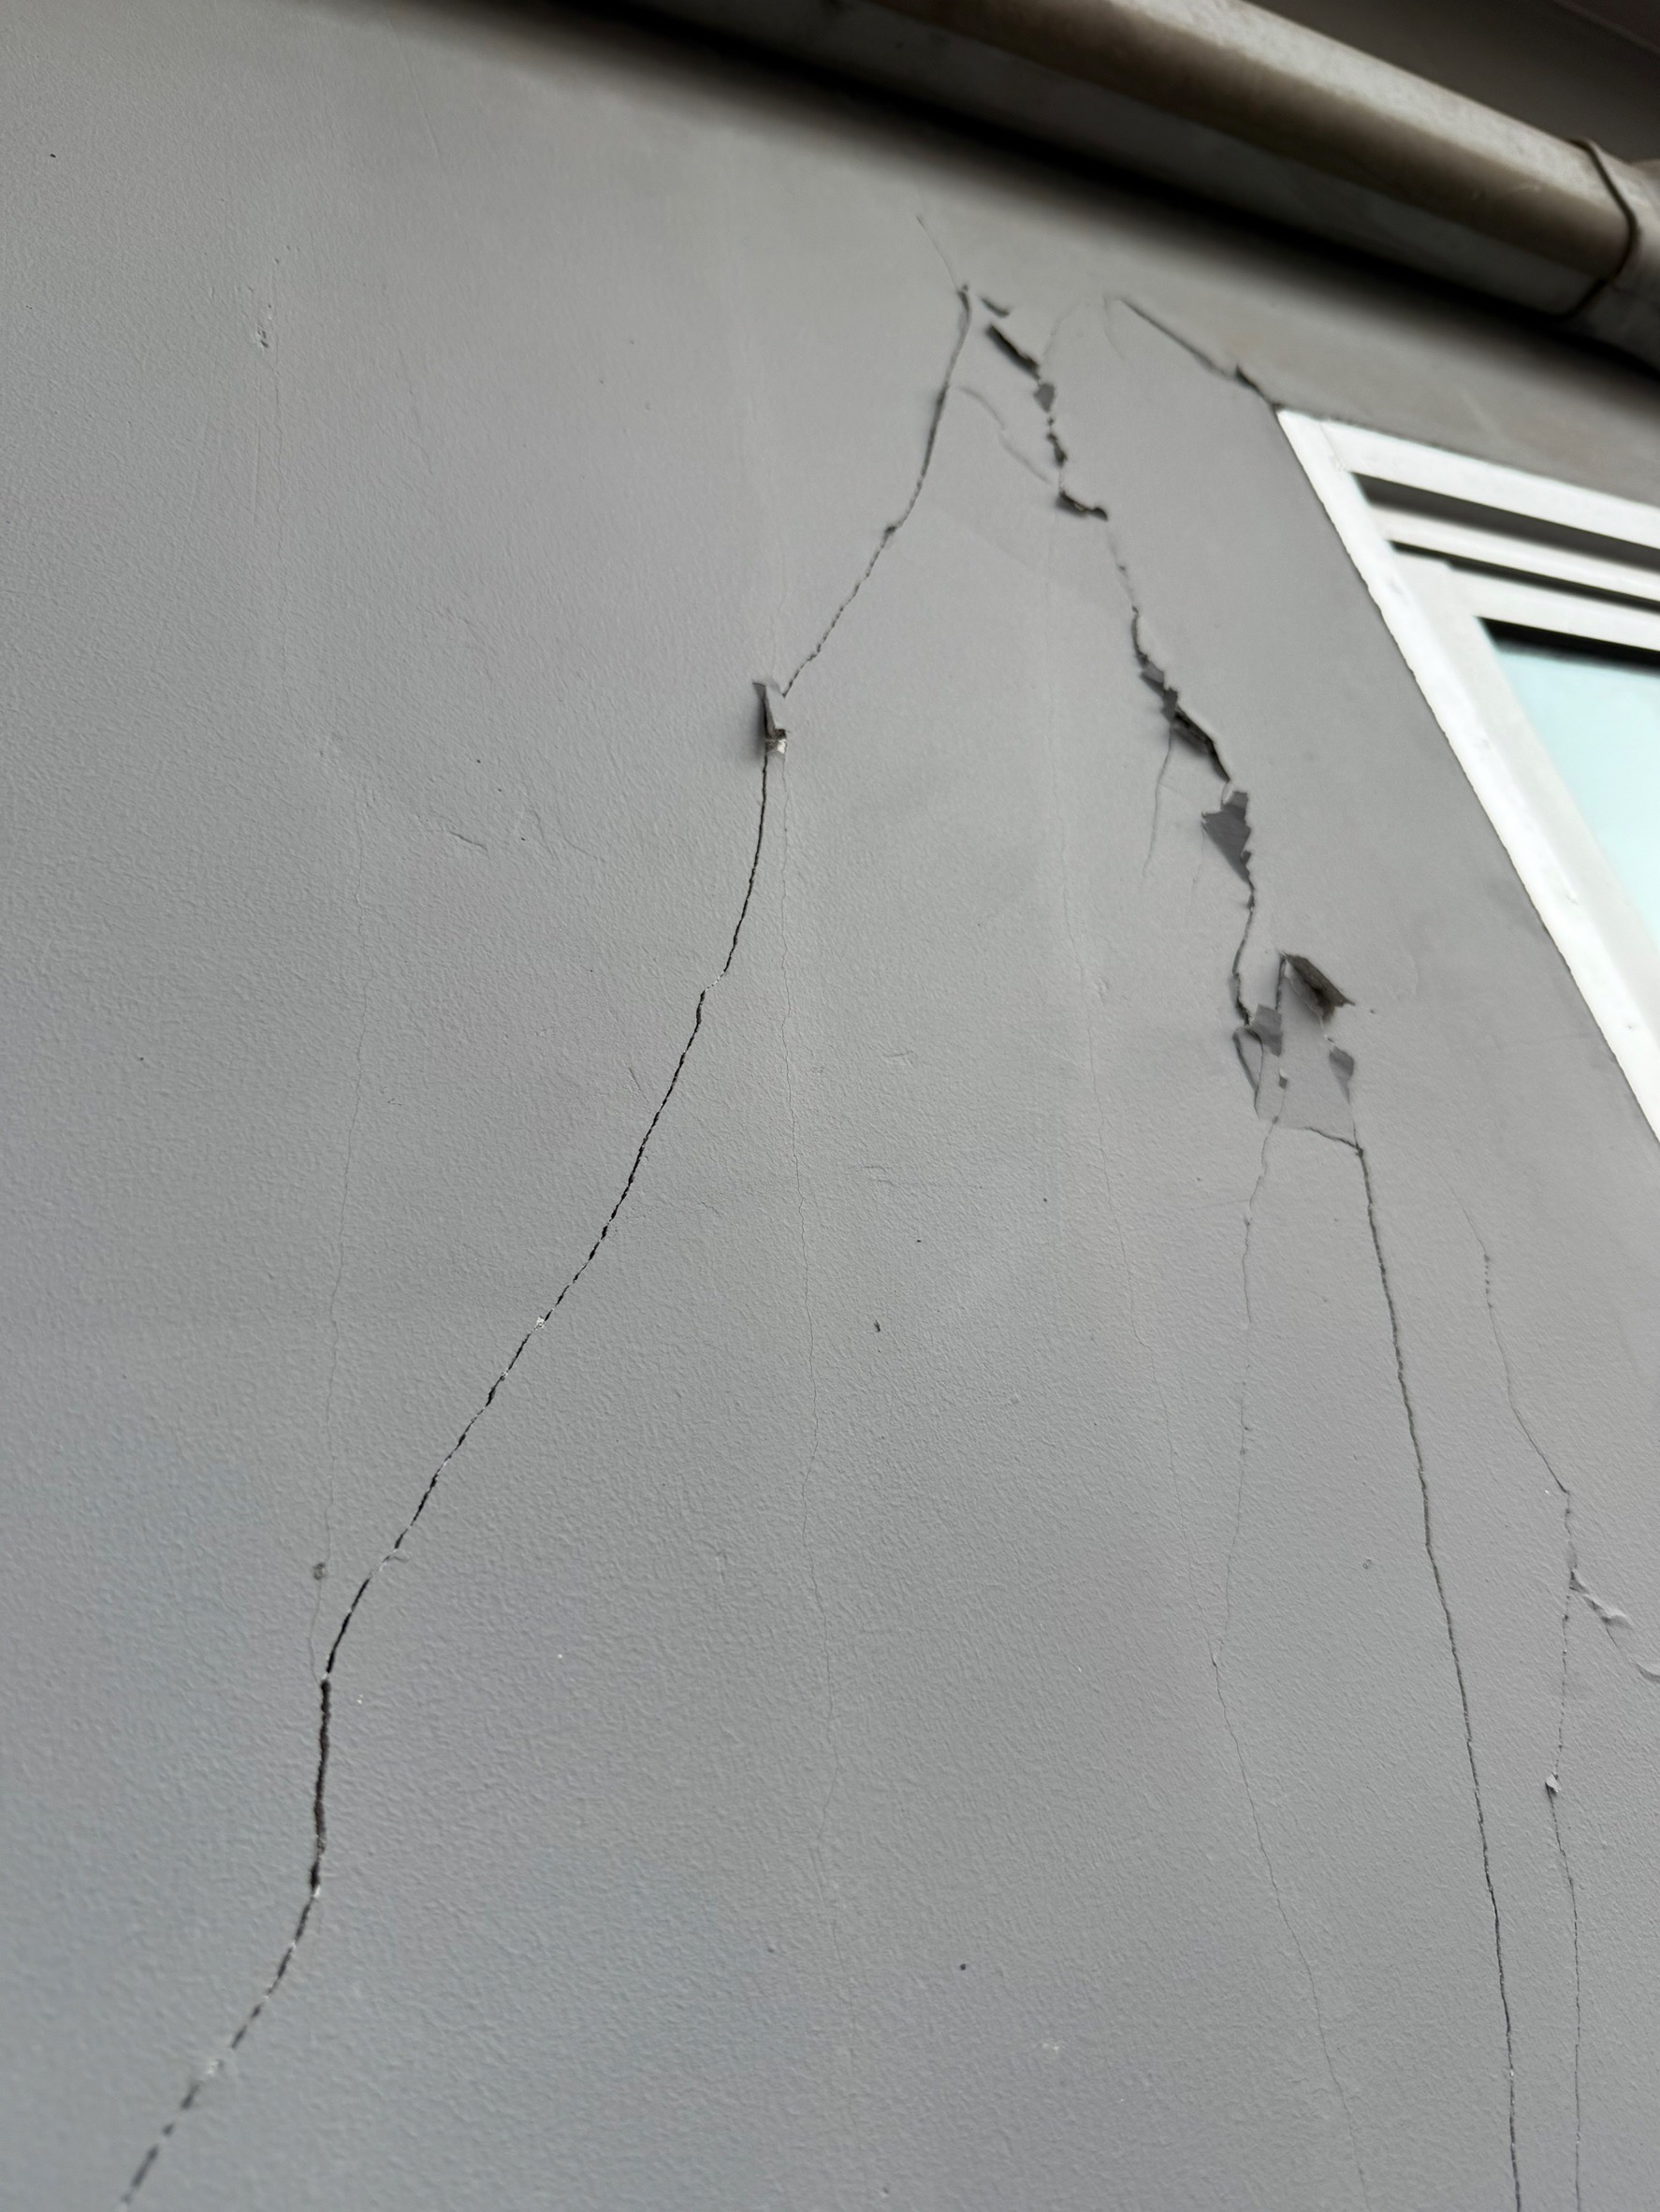Low: (68, 246, 1529, 2205)
